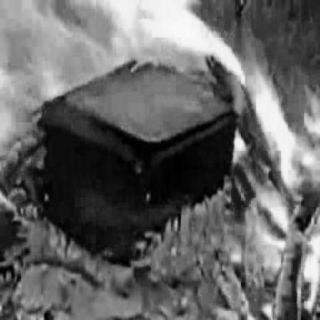Fire: (0, 0, 318, 313)
